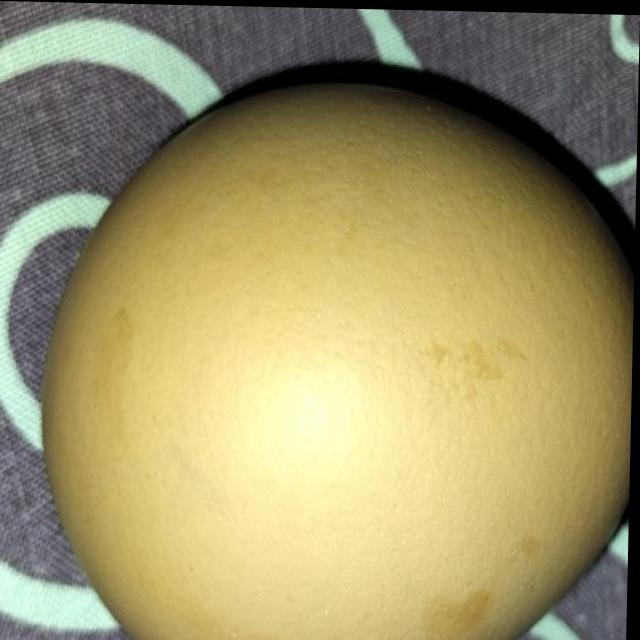fresh: (41, 60, 639, 640)
